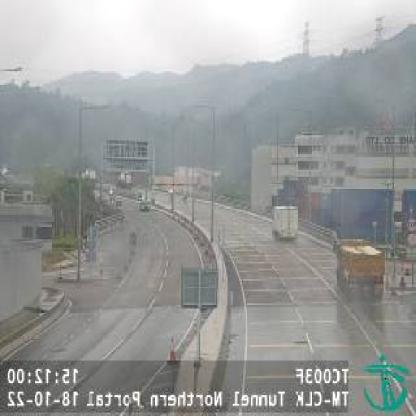Truck: (332, 237, 386, 305), (270, 202, 300, 242)
